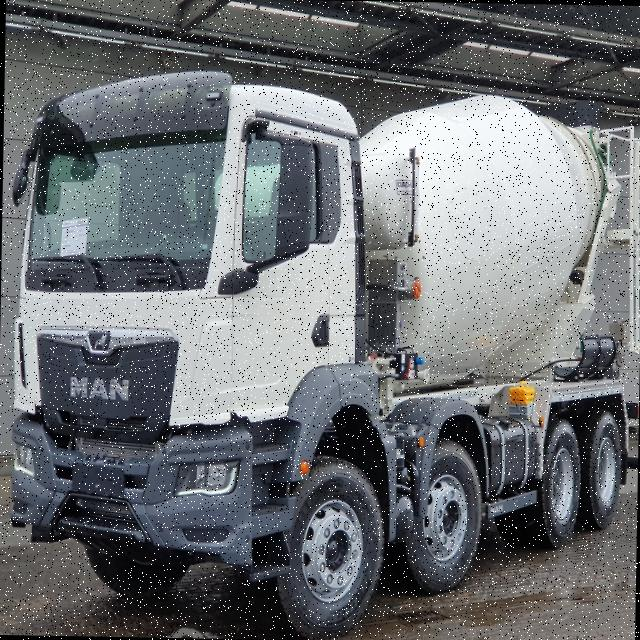Mixer Truck: (9, 68, 640, 640)
